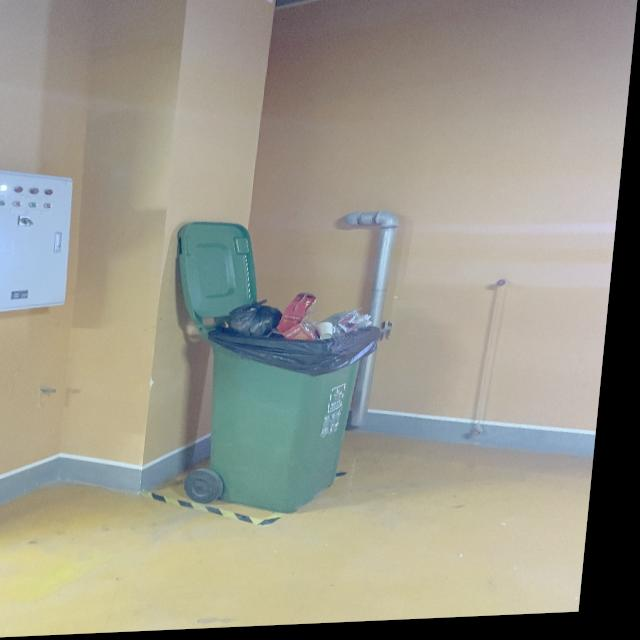overflow: (202, 292, 389, 521)
